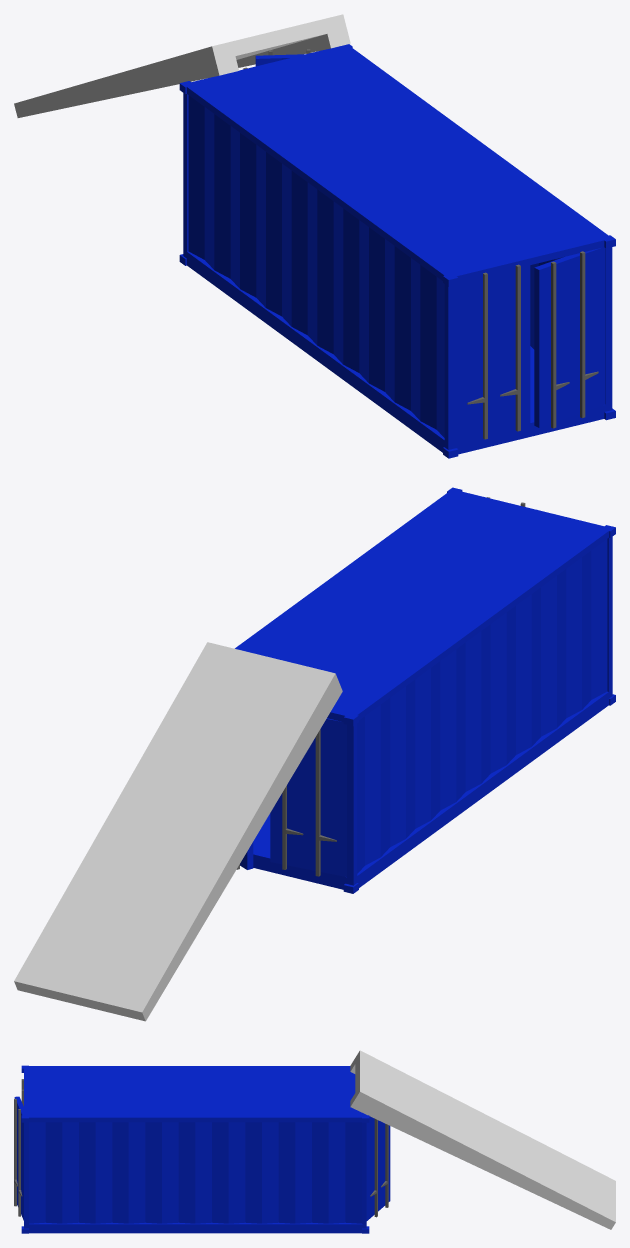
The model's file is Container and plank.fbx.
3 views of the same model, one above another, from view 1: azimuth 30°, elevation 25°; view 2: azimuth 150°, elevation 25°; view 3: azimuth 270°, elevation 25° (orthographic). The views are drawn at different scales.
Parts seen in each view (by area): view 1: Container, Plank; view 2: Container, Plank; view 3: Container, Plank.
Part boxes in pixels (x1,y1,x2,y2): Container: (179, 44, 615, 458); Plank: (14, 14, 350, 117); Container: (235, 487, 615, 893); Plank: (14, 642, 342, 1021); Container: (14, 1065, 390, 1233); Plank: (350, 1050, 615, 1229).
Size of the model in its own units: 255 by 312 by 1229.
